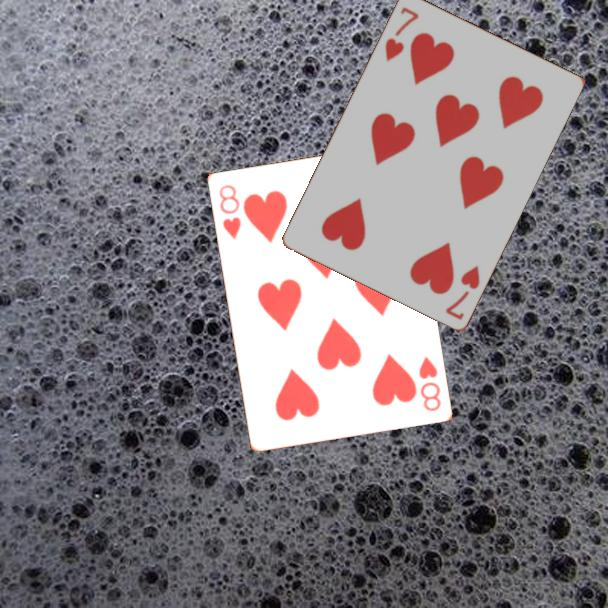h07: (381, 3, 422, 64), (442, 261, 483, 322)
h08: (215, 181, 243, 242), (415, 353, 443, 414)
